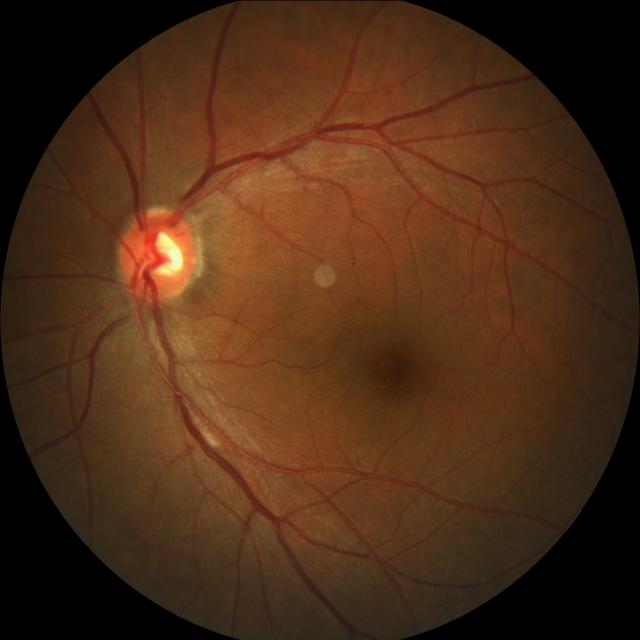OC: (138, 232, 186, 280)
OD: (117, 206, 198, 302)
